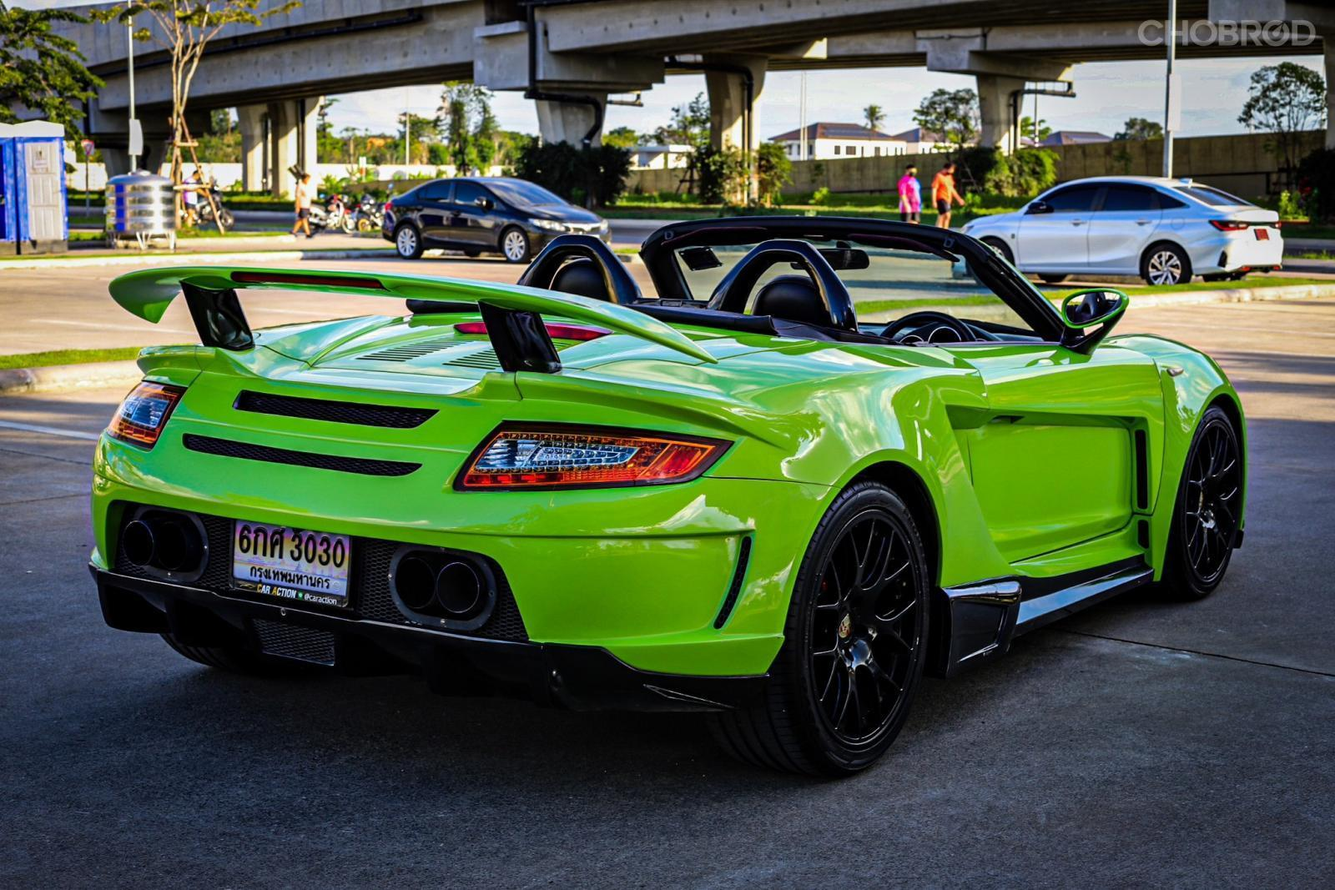license-plate: (228, 516, 359, 615)
